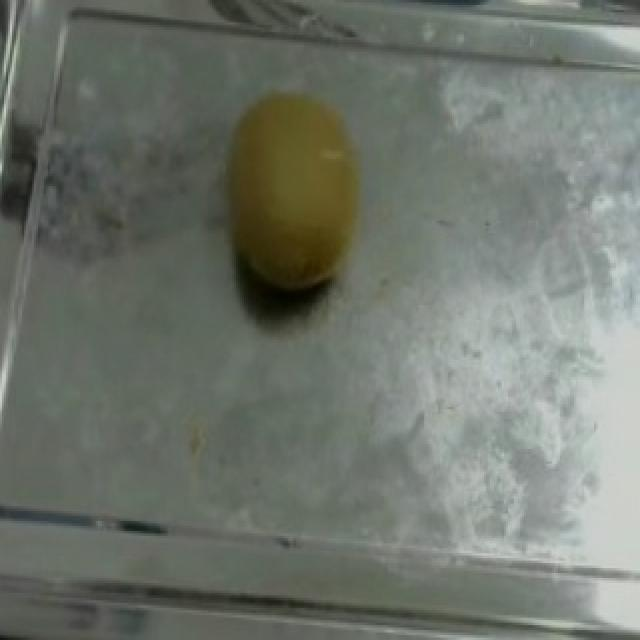Fruit: (200, 77, 382, 312)
